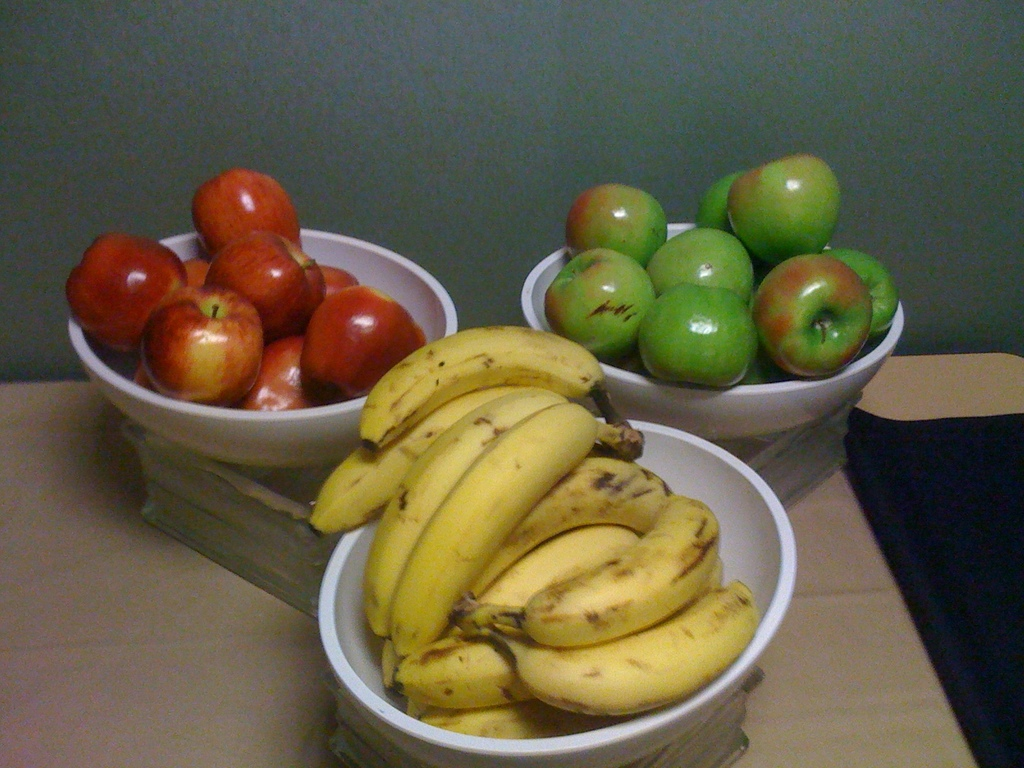Apple: (63, 165, 430, 410), (545, 153, 901, 387), (139, 303, 264, 412)
